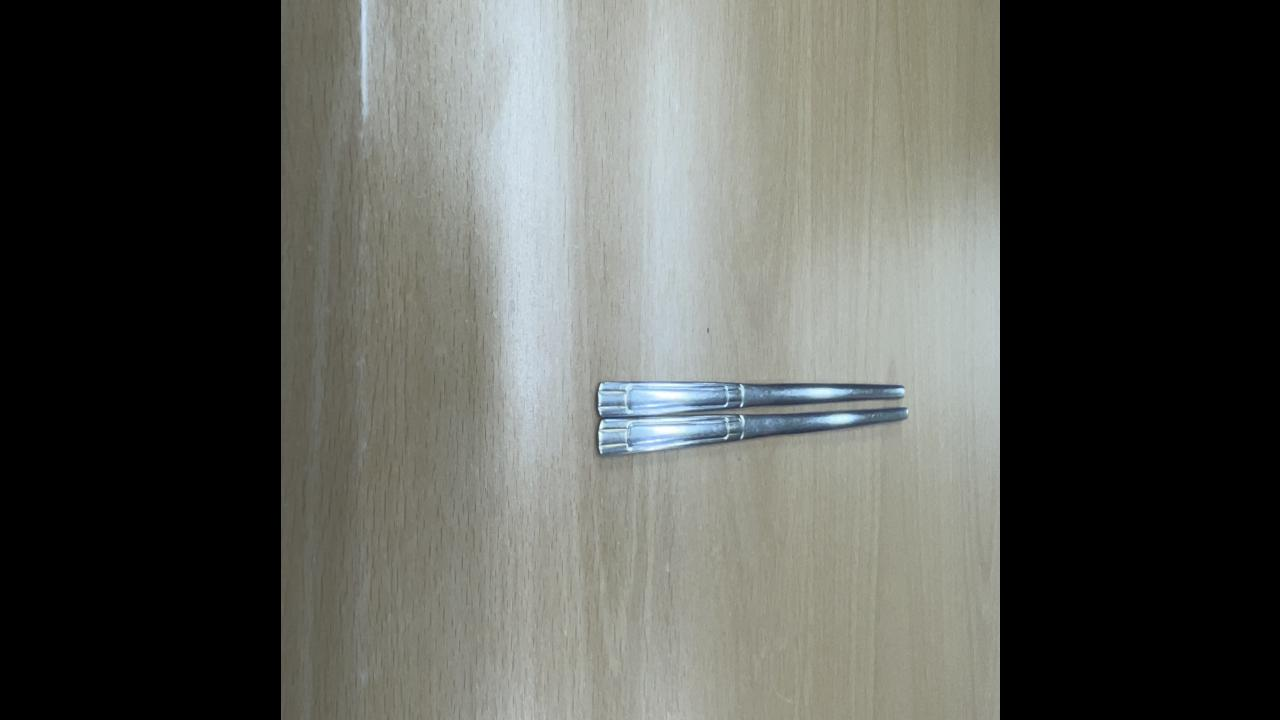chopstick: (596, 382, 908, 456)
